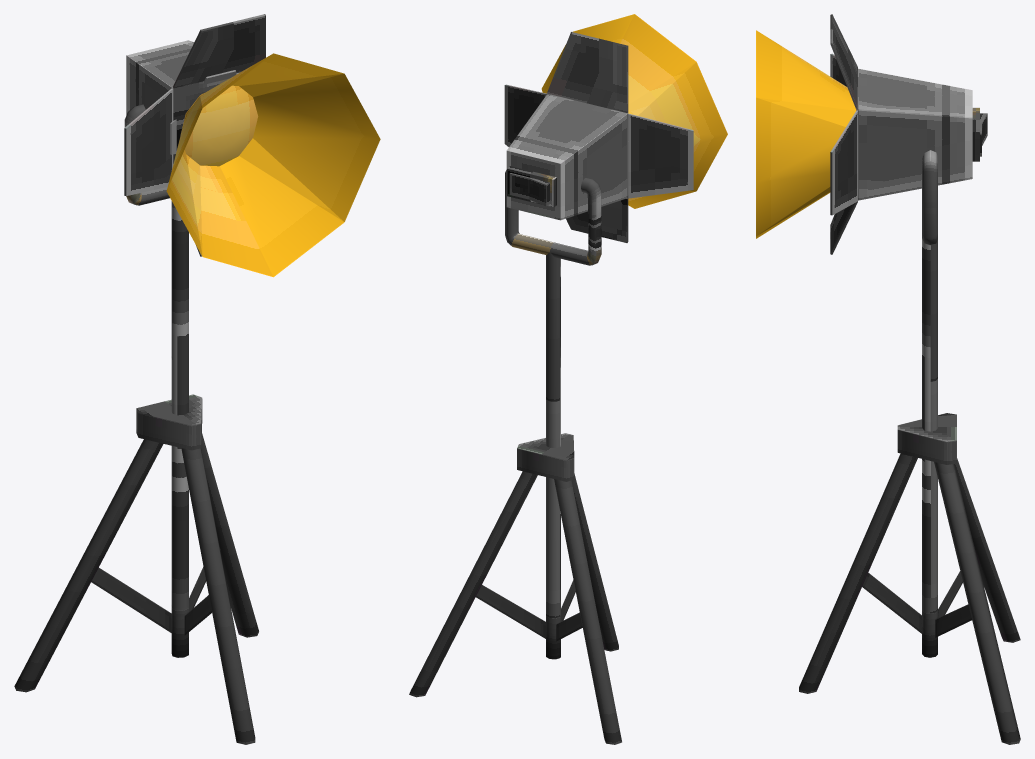
The model's file is int_sdo_lampL.dae.
3 renders of one model, left to right at view 1: azimuth 30°, elevation 25°; view 2: azimuth 150°, elevation 25°; view 3: azimuth 270°, elevation 25°, orthographic. The views are drawn at different scales.
Visible parts, largest first — view 1: int_sdo_lampL; view 2: int_sdo_lampL; view 3: int_sdo_lampL.
Boxes of the visible parts, bbox=[...] form: int_sdo_lampL: bbox=[14, 14, 380, 744]; int_sdo_lampL: bbox=[409, 14, 727, 744]; int_sdo_lampL: bbox=[756, 14, 1020, 744].
Bounding box in the file's own units: 24.08 × 67.13 × 24.36.
Materials: 2 (2 with a texture image).
